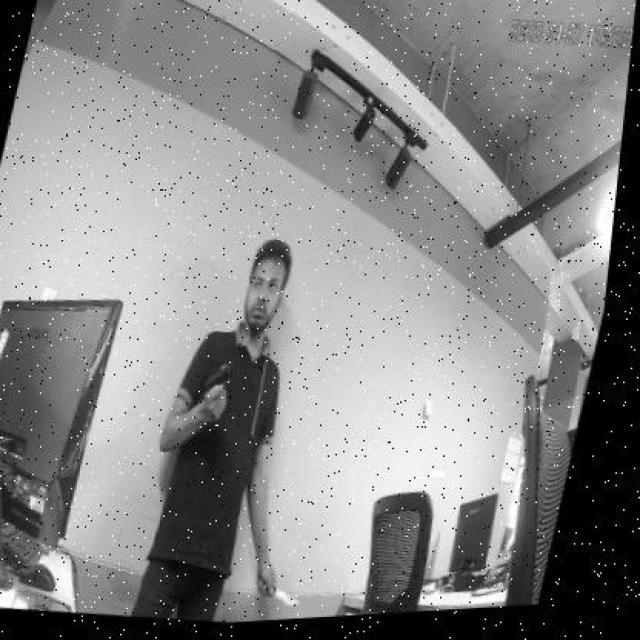weapon: (198, 356, 236, 414)
